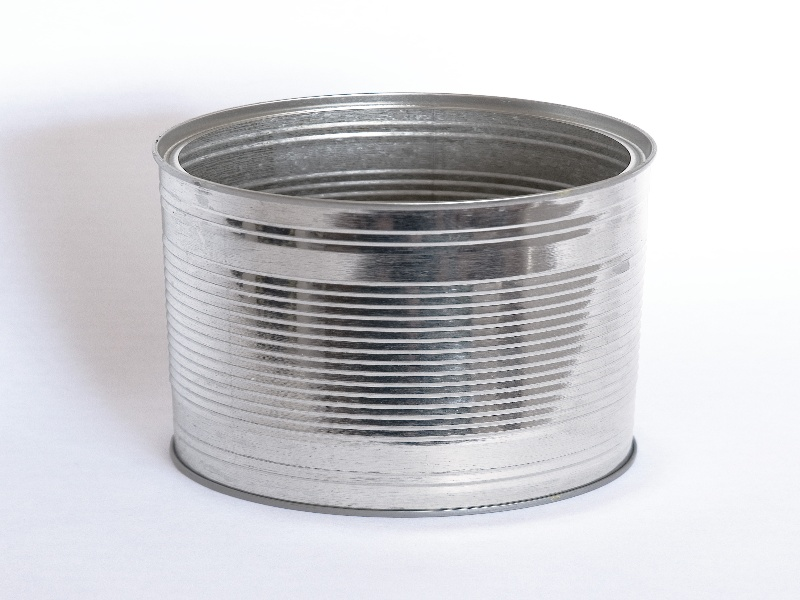Steel_can_Reuse: (113, 68, 674, 546)
